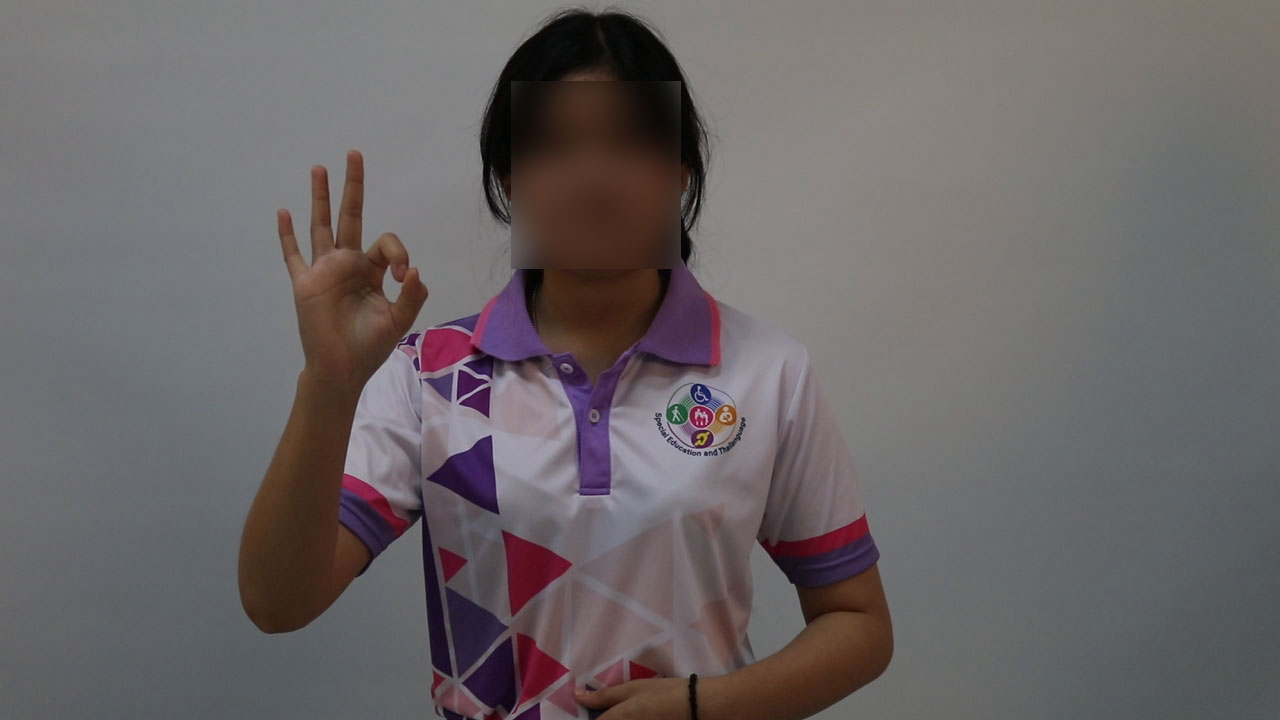for: (272, 138, 437, 400)
